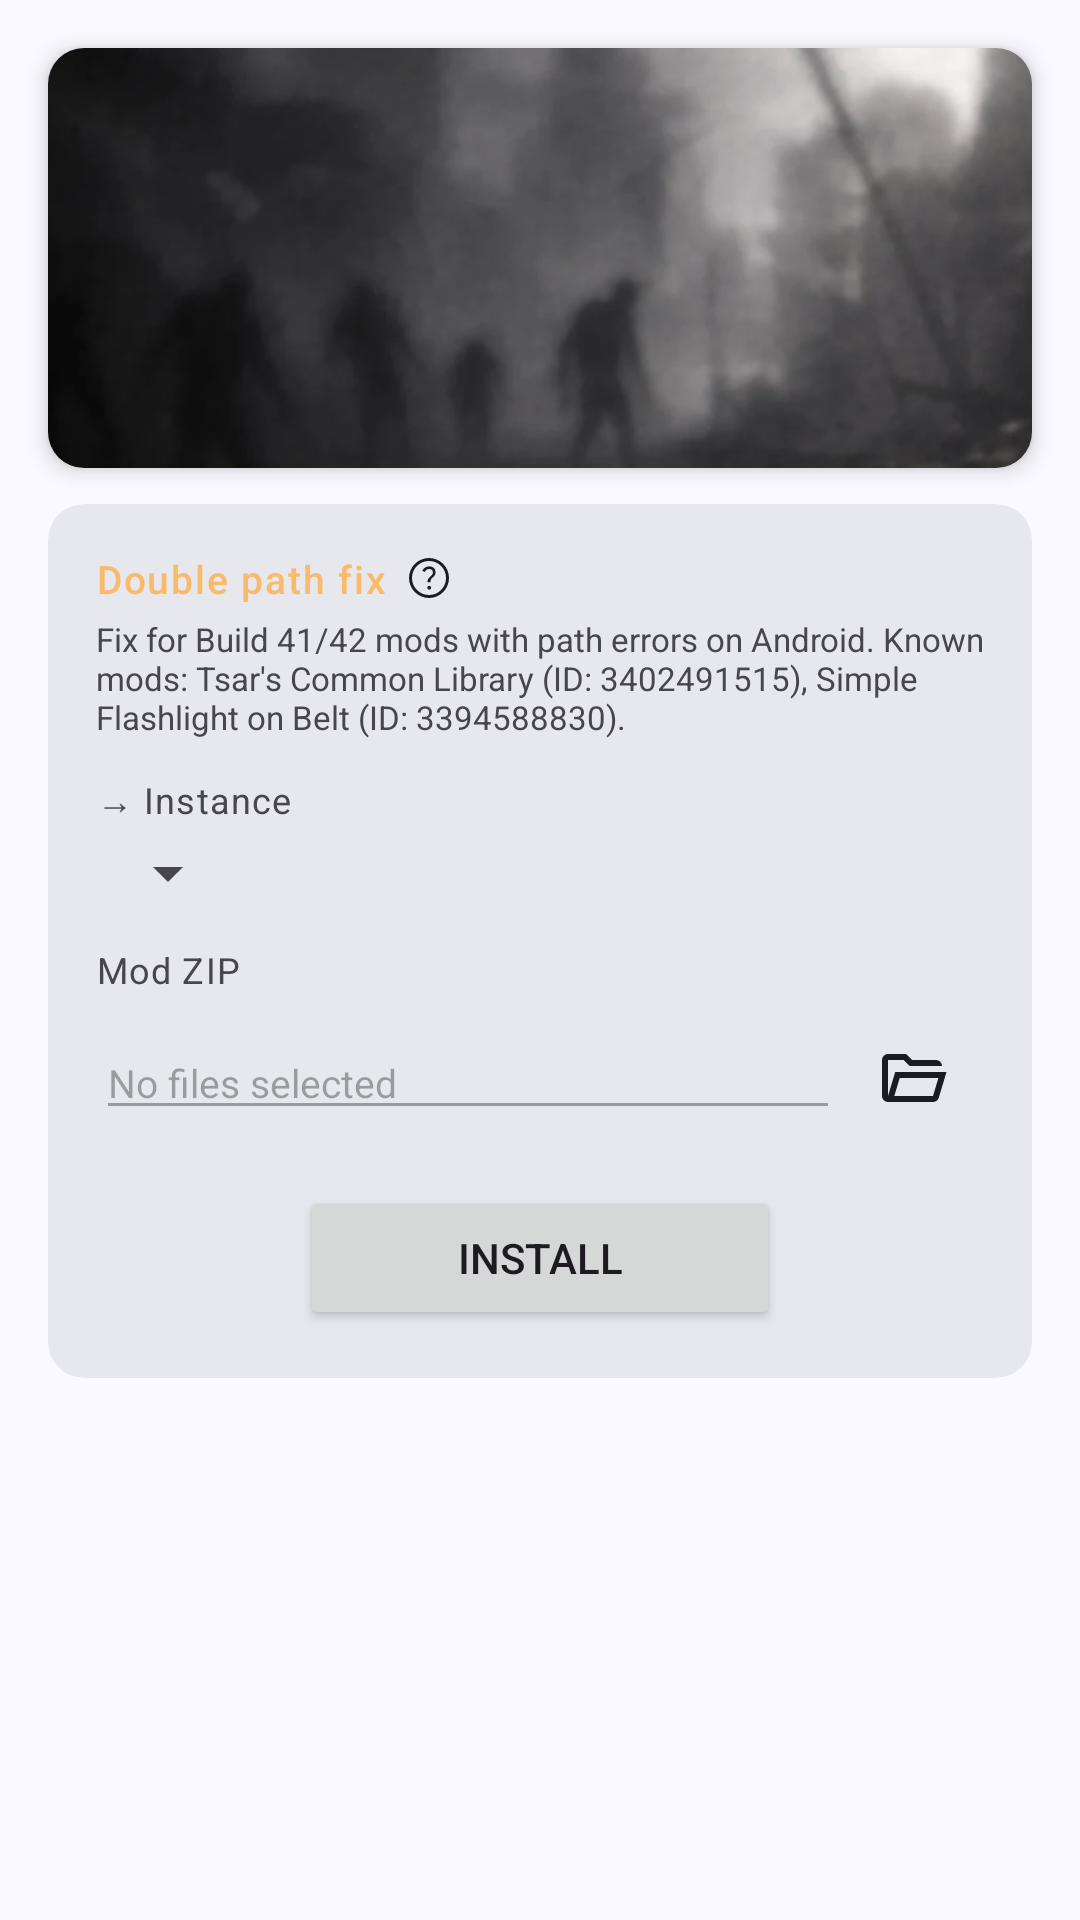

Icons on this 1080*1920 Android screen, each with the point to tap as [x,y]:
folder open: [914,1078]
help: [429,578]
